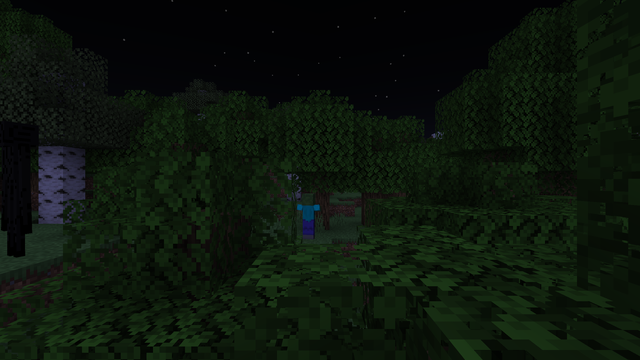endermens: (0, 116, 44, 259)
zombies: (301, 194, 315, 239)
